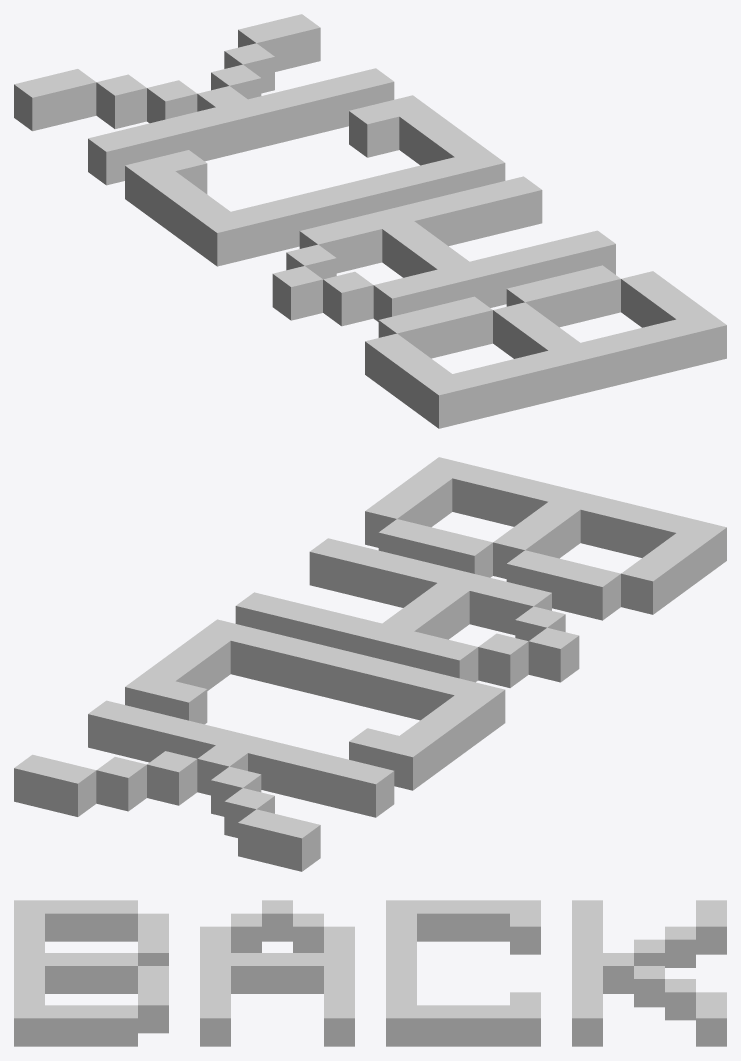
Rendered from Back.obj.
3 views of the same model, one above another, from view 1: azimuth 30°, elevation 25°; view 2: azimuth 150°, elevation 25°; view 3: azimuth 270°, elevation 25° (orthographic). The views are drawn at different scales.
Bounding box in the file's own units: 18 × 2 × 46.
Materials: 1 (1 with a texture image).
